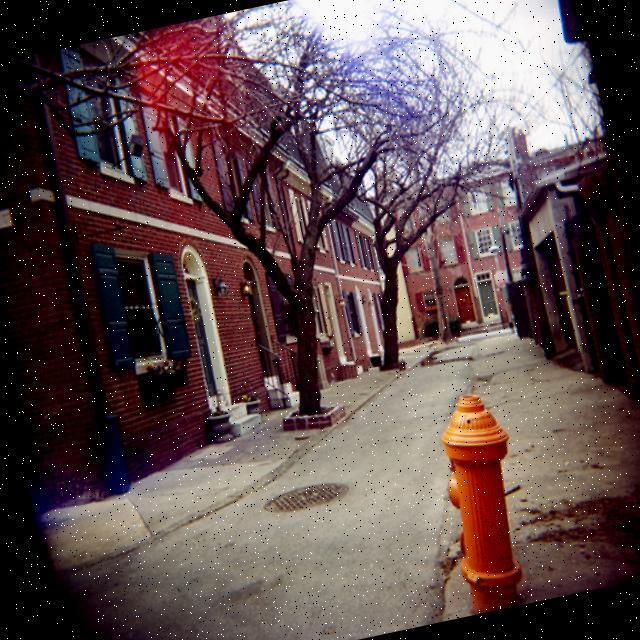fire_hydrant: (422, 387, 544, 616)
